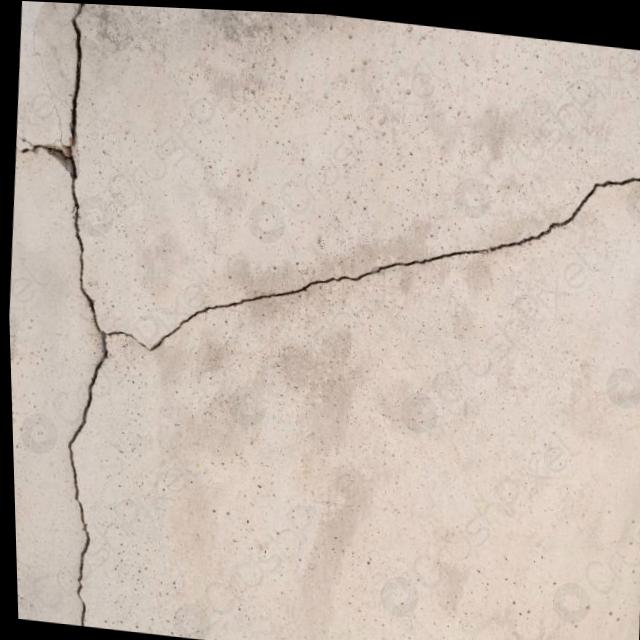Crack: (99, 102, 640, 412), (0, 0, 138, 627)
